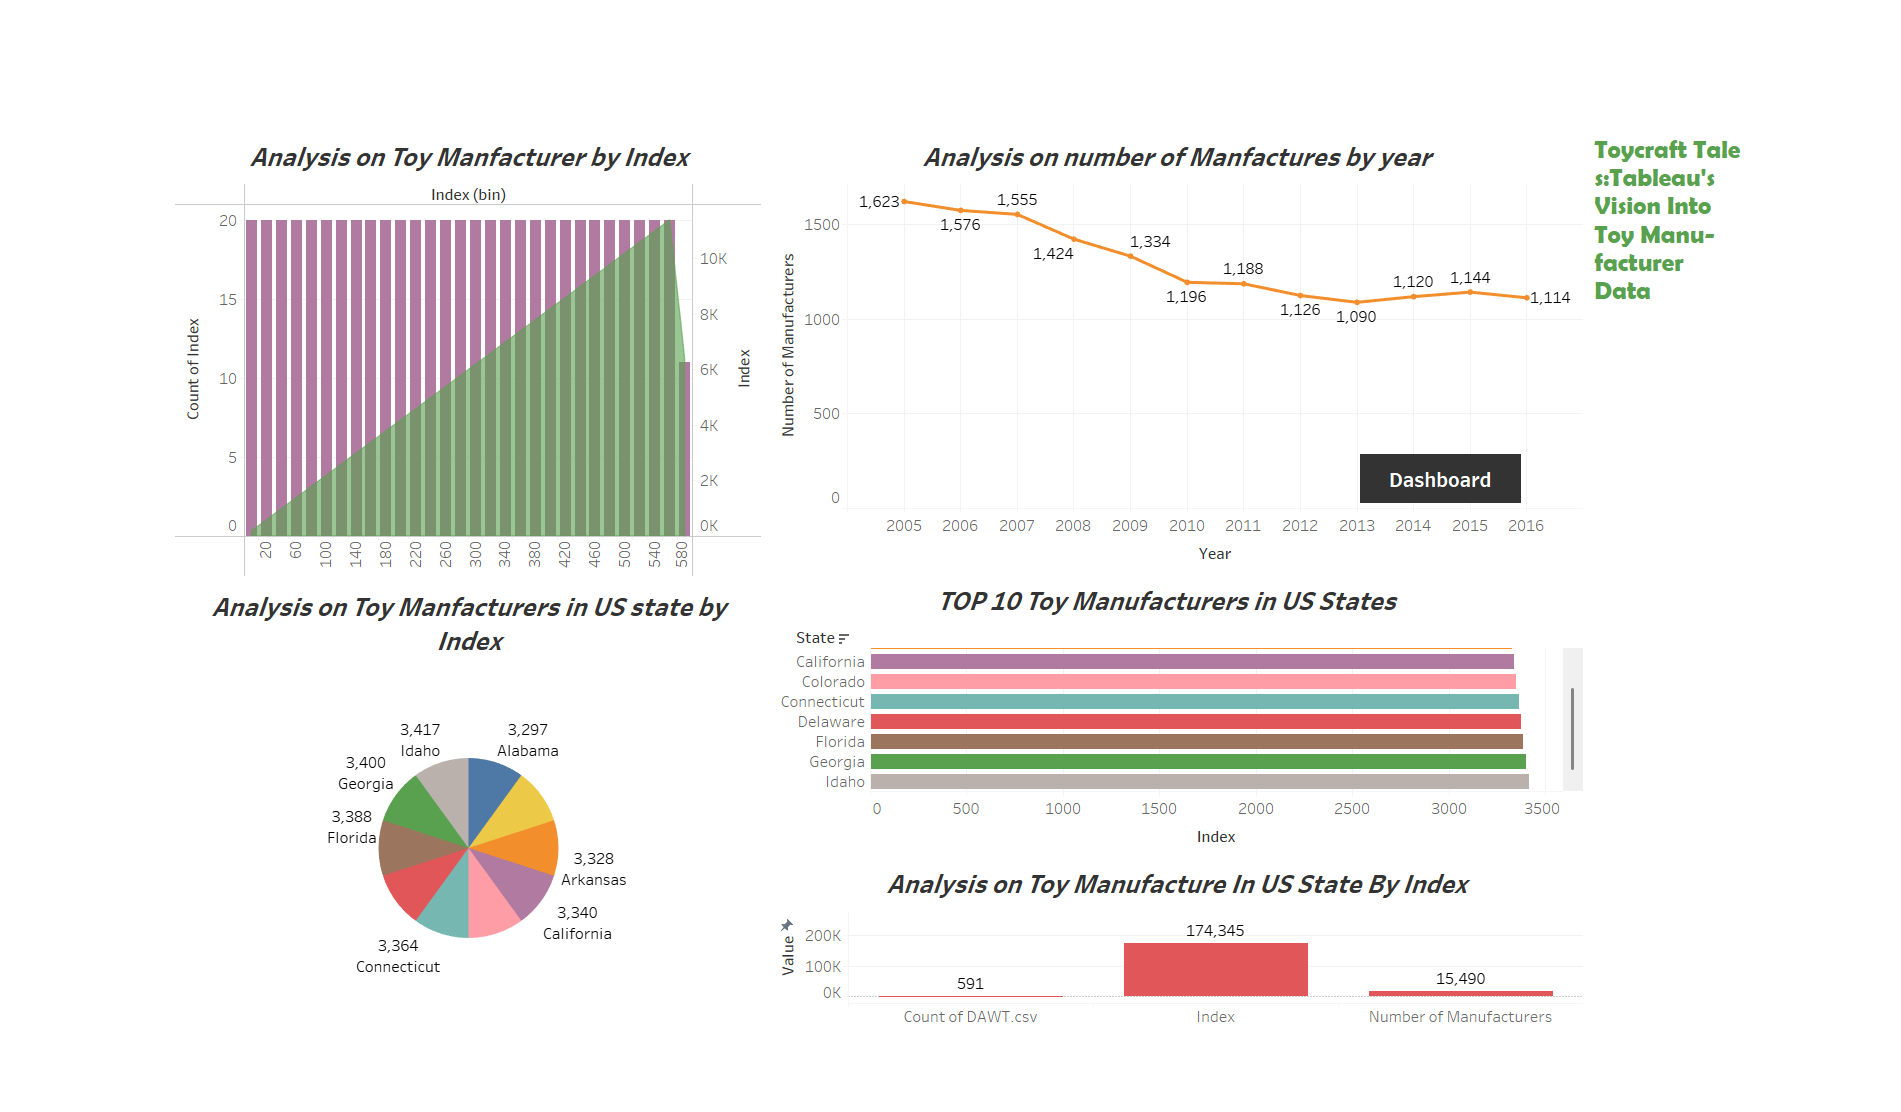

The dashboard page shown, as its layout file describes it:
{"tool":"tableau","page":{"name":"Dashboard 1","canvas":[1592,917],"ordinal":0},"visuals":[{"type":"worksheet","title":"Analysis on Toy Manfacturer by Index","mark":"Automatic","rows":["index","index"],"cols":["Index (bin)"],"box":[8,8,595,450.4]},{"type":"worksheet","title":"Analysis on number of manfacturers by year","mark":"Automatic","rows":["Number of Manufacturers"],"cols":["Year"],"box":[603,8,821,444]},{"type":"text","box":[1424,8,160,182]},{"type":"dashboard-object","box":[1197.2,330.5,161.1,49.1]},{"type":"worksheet","title":"Top 10 Manfactures in US States","mark":"Automatic","rows":["State"],"cols":["index"],"box":[603,452,821,283]},{"type":"worksheet","title":"Analysis on Toy Manfacturers in US State by Index","mark":"Pie","box":[8,458.4,595,450.6]},{"type":"worksheet","title":"Analysis on Toy Manfacturer in US State by Index","mark":"Automatic","box":[603,735,821,174]}]}

Visuals, with their boxes in screenshot pixels (x1, y1, x2, y2), scaled from the page's 1592x917 canvas onto the 1901x1112 screenshot:
"Analysis on Toy Manfacturer by Index" worksheet: <box>10,10,720,556</box>
"Analysis on number of manfacturers by year" worksheet: <box>720,10,1700,548</box>
text: <box>1700,10,1891,230</box>
dashboard-object: <box>1430,401,1622,460</box>
"Top 10 Manfactures in US States" worksheet: <box>720,548,1700,891</box>
"Analysis on Toy Manfacturers in US State by Index" worksheet (Pie marks): <box>10,556,720,1102</box>
"Analysis on Toy Manfacturer in US State by Index" worksheet: <box>720,891,1700,1102</box>
